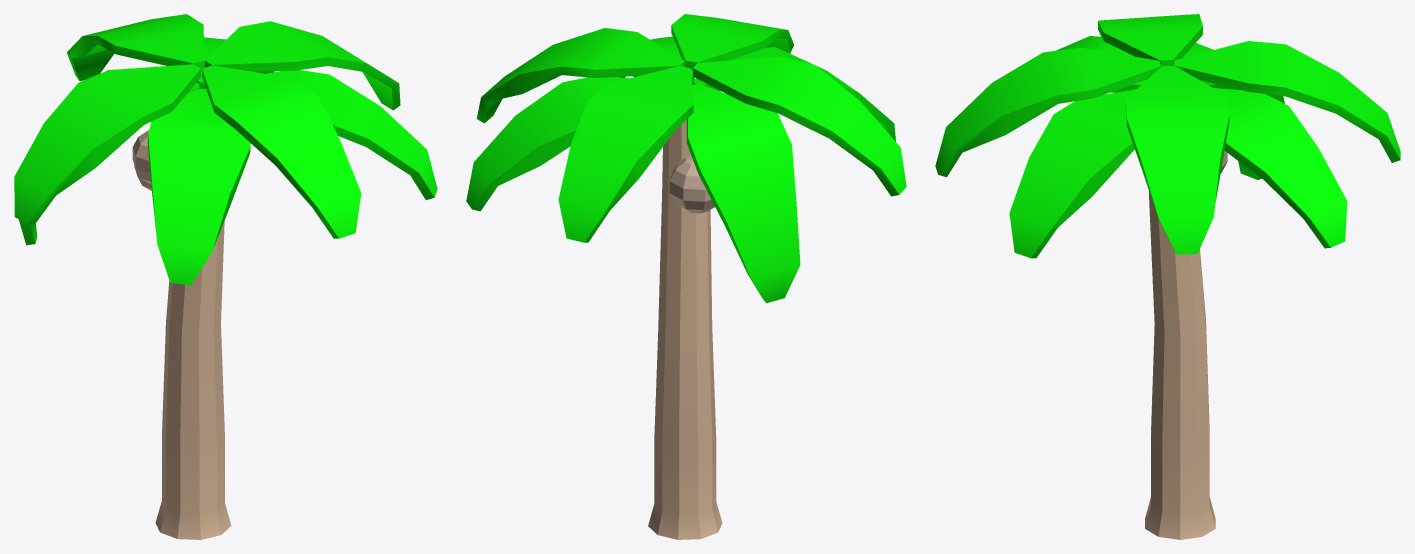
The model's file is palm.glb.
3 views of the same model, side by side, from view 1: azimuth 30°, elevation 25°; view 2: azimuth 150°, elevation 25°; view 3: azimuth 270°, elevation 25° (orthographic).
Bounding box in the file's own units: 15.5 × 17.02 × 15.53.
